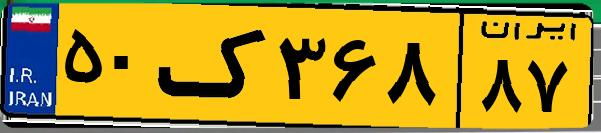0: (110, 28, 158, 98)
3: (270, 28, 330, 110)
5: (57, 26, 110, 100)
6: (330, 28, 385, 110)
7: (525, 38, 570, 115)
8: (385, 28, 445, 110), (475, 38, 525, 113)
ک: (158, 12, 270, 120)
